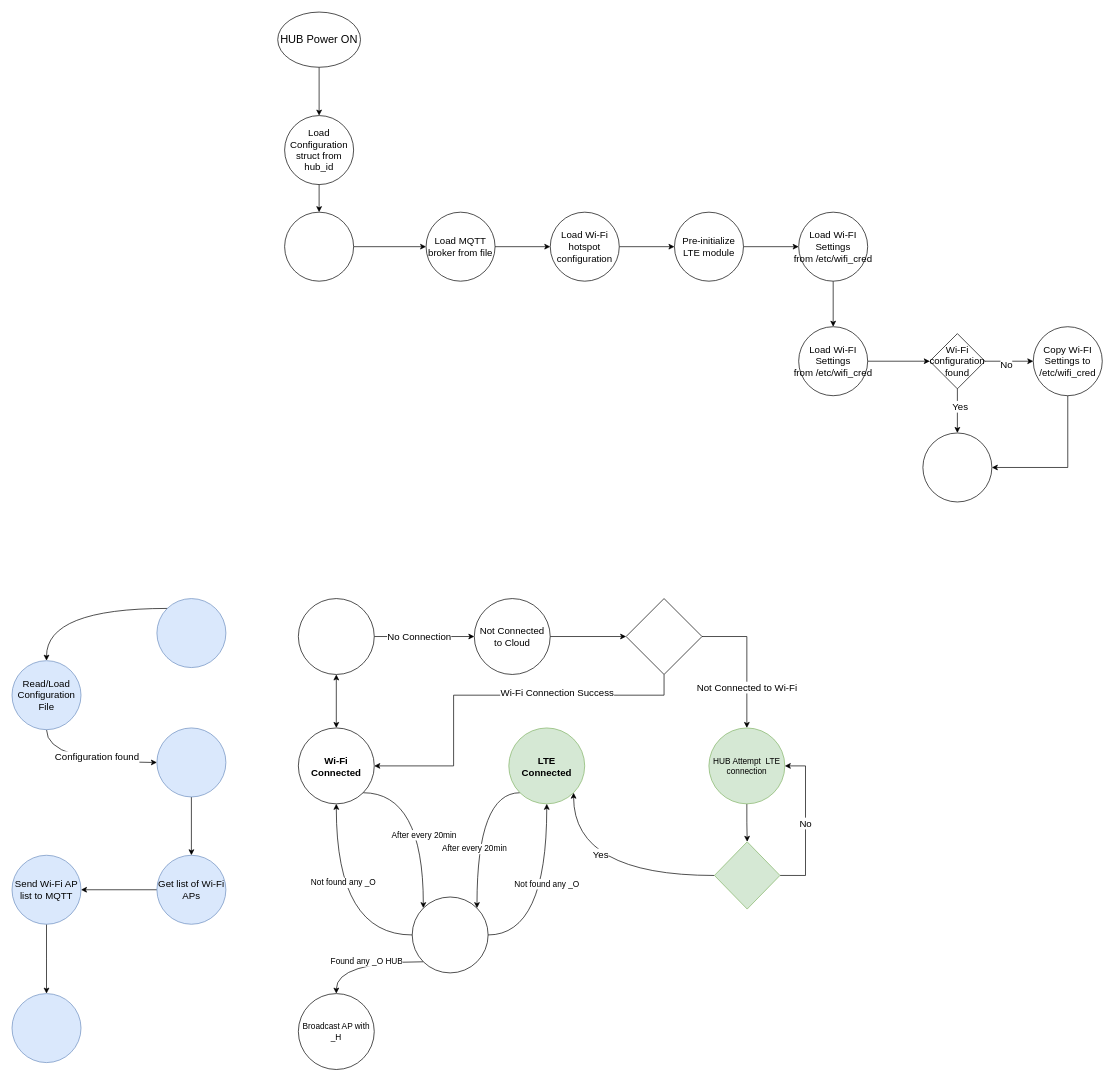
Some shapes in this 1115 by 1082 pixel diagram are drawn without their labels. The centre of each missing label's shape, as x and y in pixels:
Attempt Wi-Fi connection: the point at 663,636
Check connectivity: the point at 336,636
Check for any SSID with _O: the point at 450,934
Connect to Desired AP: the point at 46,1028
Print All configurations: the point at 319,246
Success?: the point at 747,875
WDC Command Received from MCU: the point at 191,633
WDC Enabled: the point at 191,762
